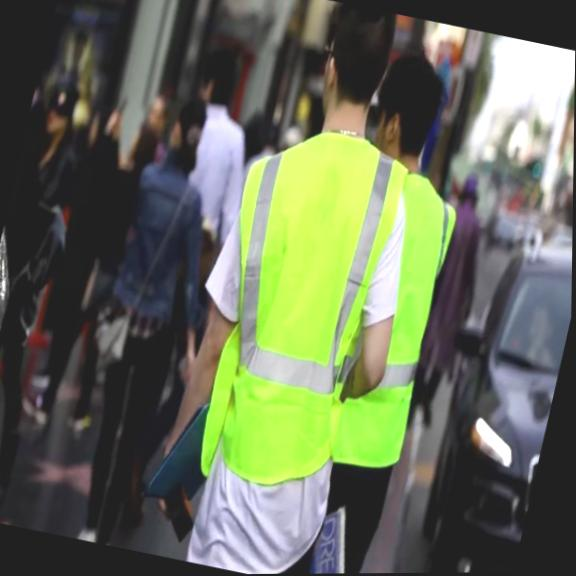safety_vest: (178, 120, 413, 503), (323, 163, 466, 477)
